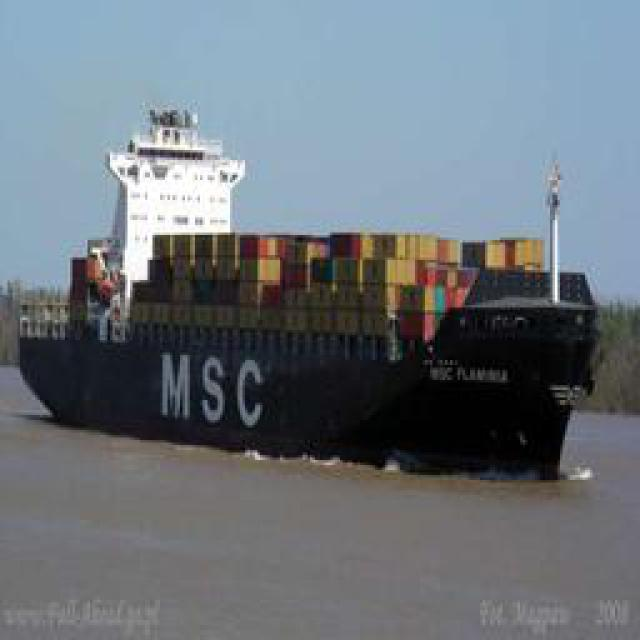Ship: (15, 72, 595, 470)
